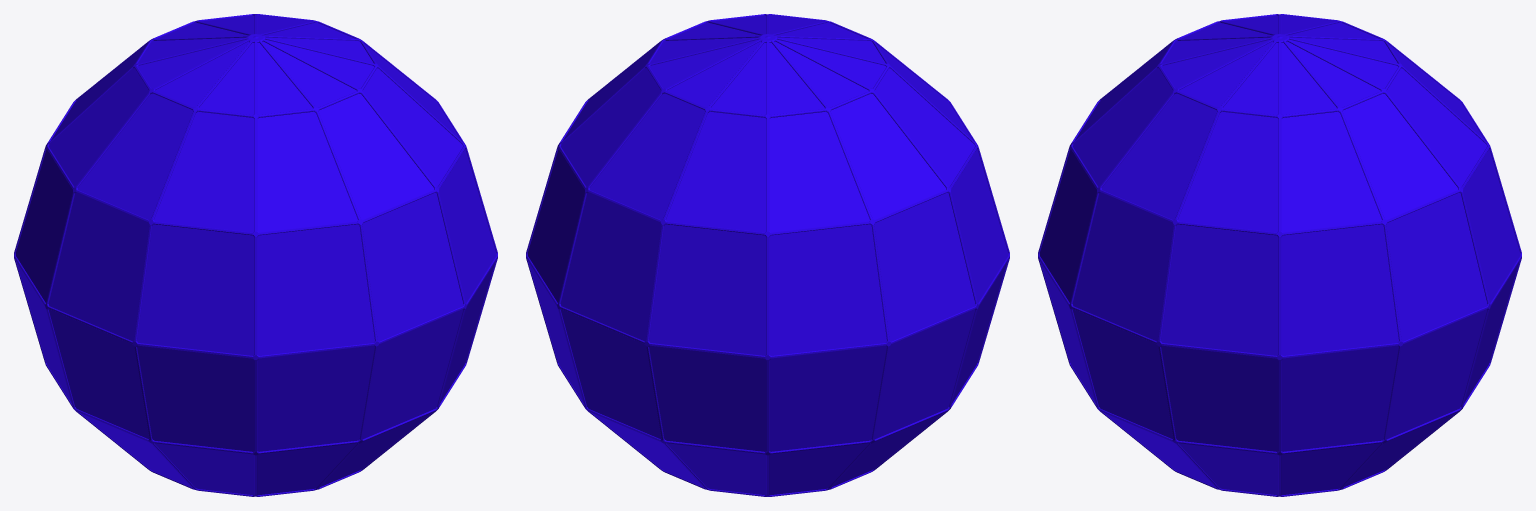
3 views of the same model, side by side, from view 1: azimuth 30°, elevation 25°; view 2: azimuth 150°, elevation 25°; view 3: azimuth 270°, elevation 25° (orthographic).
Visible parts, largest first — view 1: Sphere; view 2: Sphere; view 3: Sphere.
Boxes of the visible parts, left/top/right/bottom form: Sphere: left=14, top=14, right=497, bottom=496; Sphere: left=526, top=14, right=1009, bottom=496; Sphere: left=1038, top=14, right=1521, bottom=496.
Bounding box in the file's own units: 2.06 × 2.06 × 2.06.
